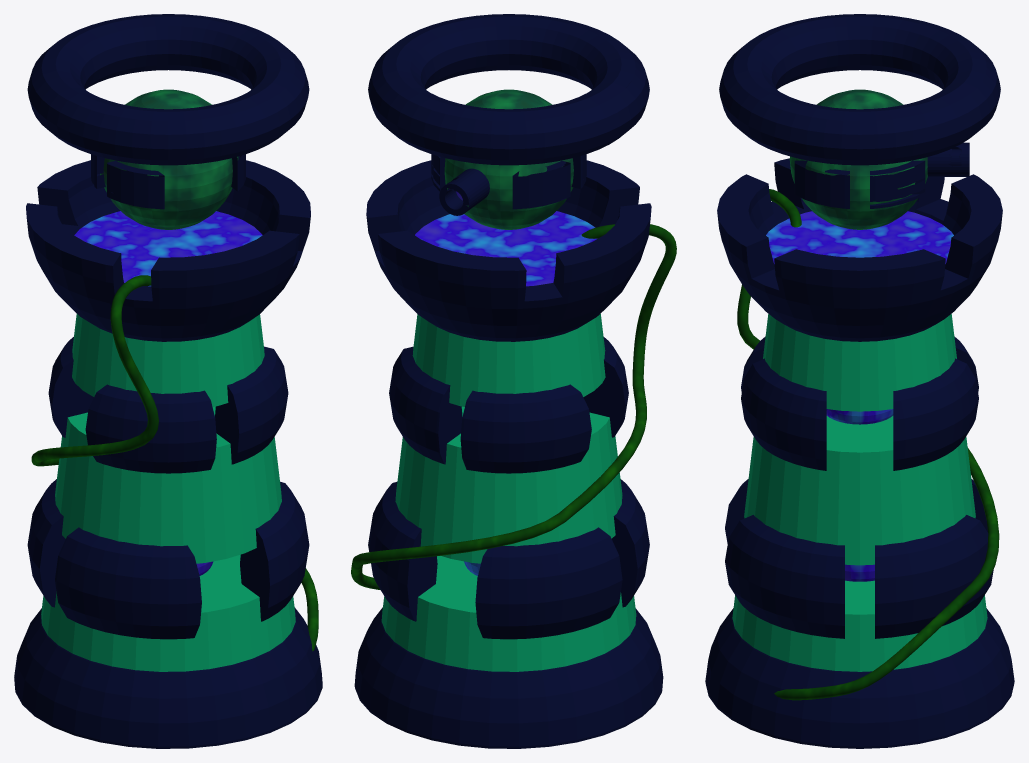
The model's file is Turm6.fbx.
The picture shows the model from 3 angles, left to right: view 1: azimuth 30°, elevation 25°; view 2: azimuth 150°, elevation 25°; view 3: azimuth 270°, elevation 25°; orthographic projection.
Parts seen in each view (by area): view 1: BlackArmor, Base, MagicSphere2, Sphere.003, BézierCurve, BlackArmor2; view 2: BlackArmor, Base, BézierCurve, MagicSphere2, Sphere.003, BlackArmor2, Canon; view 3: BlackArmor, Base, MagicSphere2, BézierCurve, Sphere.003, BlackArmor2, Canon.
Boxes of the visible parts, bbox=[...] form: BlackArmor: bbox=[14, 14, 322, 748]; Base: bbox=[41, 314, 295, 671]; MagicSphere2: bbox=[74, 211, 262, 575]; Sphere.003: bbox=[100, 89, 238, 229]; BézierCurve: bbox=[31, 275, 318, 651]; BlackArmor2: bbox=[91, 154, 245, 209]; BlackArmor: bbox=[354, 14, 663, 748]; Base: bbox=[381, 314, 636, 671]; BézierCurve: bbox=[351, 224, 676, 589]; MagicSphere2: bbox=[415, 191, 597, 575]; Sphere.003: bbox=[439, 89, 573, 229]; BlackArmor2: bbox=[431, 154, 586, 209]; Canon: bbox=[439, 168, 489, 215]; BlackArmor: bbox=[705, 14, 1014, 748]; Base: bbox=[732, 314, 987, 671]; MagicSphere2: bbox=[766, 211, 953, 581]; BézierCurve: bbox=[737, 189, 999, 700]; Sphere.003: bbox=[789, 89, 927, 229]; BlackArmor2: bbox=[794, 160, 925, 208]; Canon: bbox=[927, 142, 969, 176].
Size of the model in its own units: 285 by 607 by 274.
Materials: 5 (4 with a texture image).
